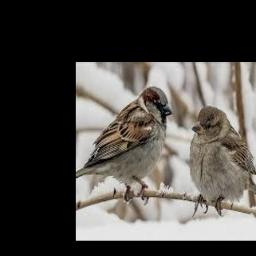Sparrow: (76, 86, 172, 205), (189, 105, 256, 218)
